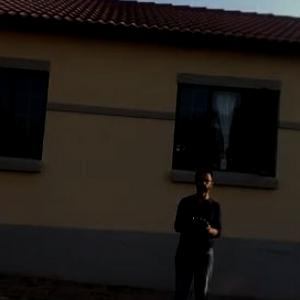follow: (167, 161, 226, 299)
